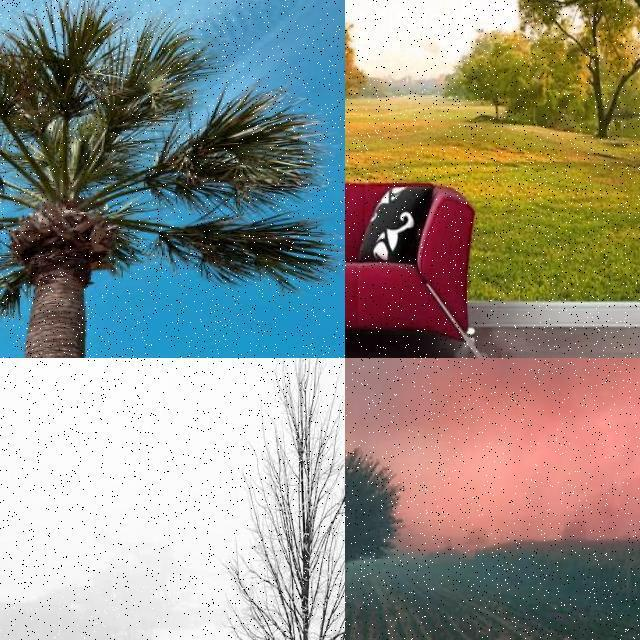tree: (0, 0, 328, 358), (467, 0, 640, 196), (228, 358, 344, 640), (346, 0, 478, 178), (344, 446, 400, 558)
